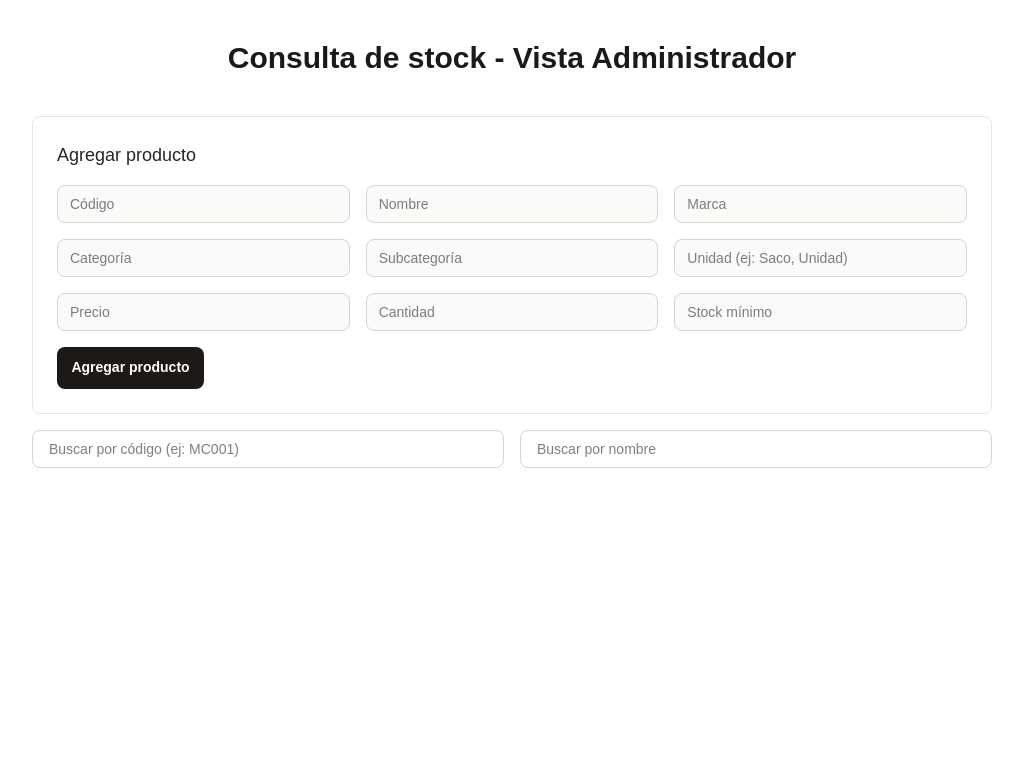
Scenario: HU 6, HU 7 y HU 13: administración › UT-10: muestra alerta junto al producto al caer bajo su umbral
Expected: the heading "Consulta de stock - Vista Administrador" is shown, [228,41,796,74]
Type "MC001" into the search field with placeholder "Buscar por código (ej: MC001)". click: [268, 449]
box: [32,430,504,468]
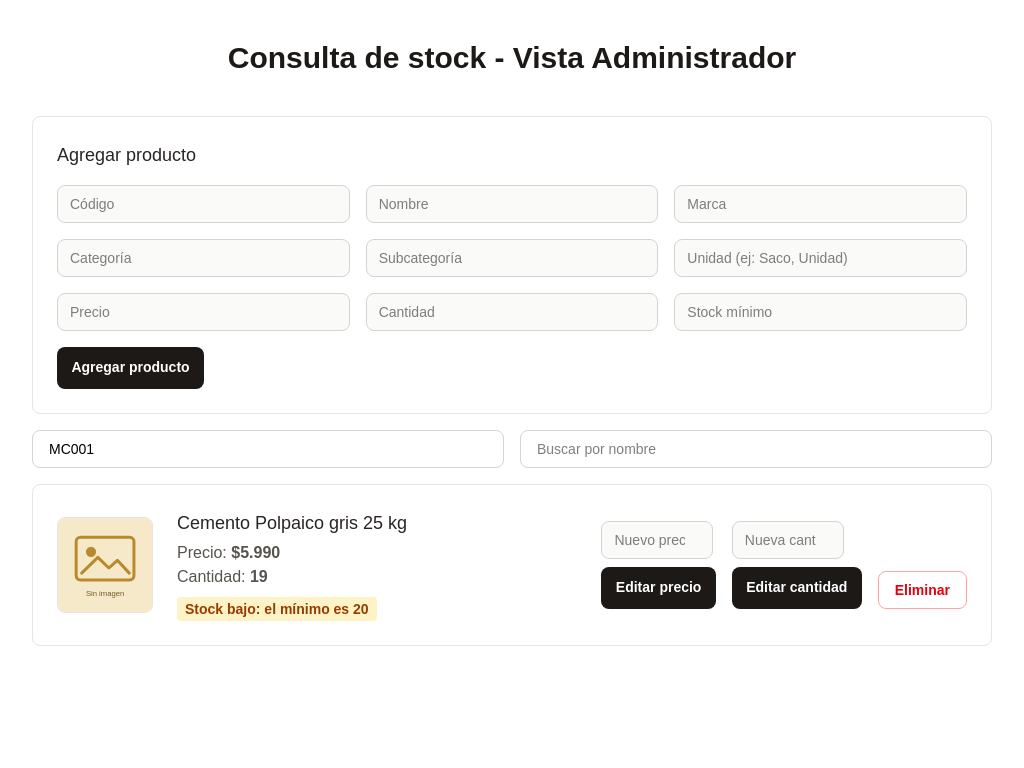
Expected: the text "Stock bajo: el mínimo es 20" is shown, [177,597,377,621]
